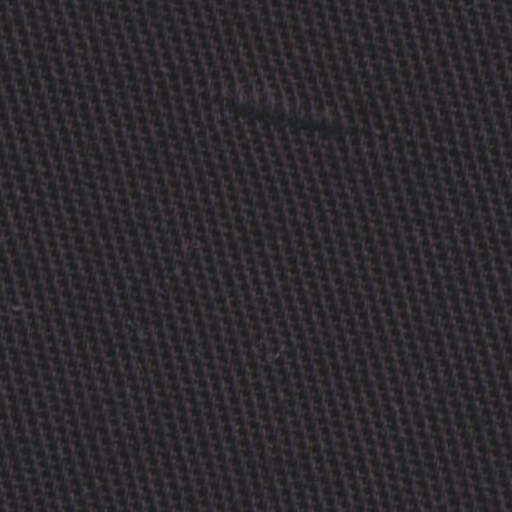DaiSha: (213, 55, 418, 172)
